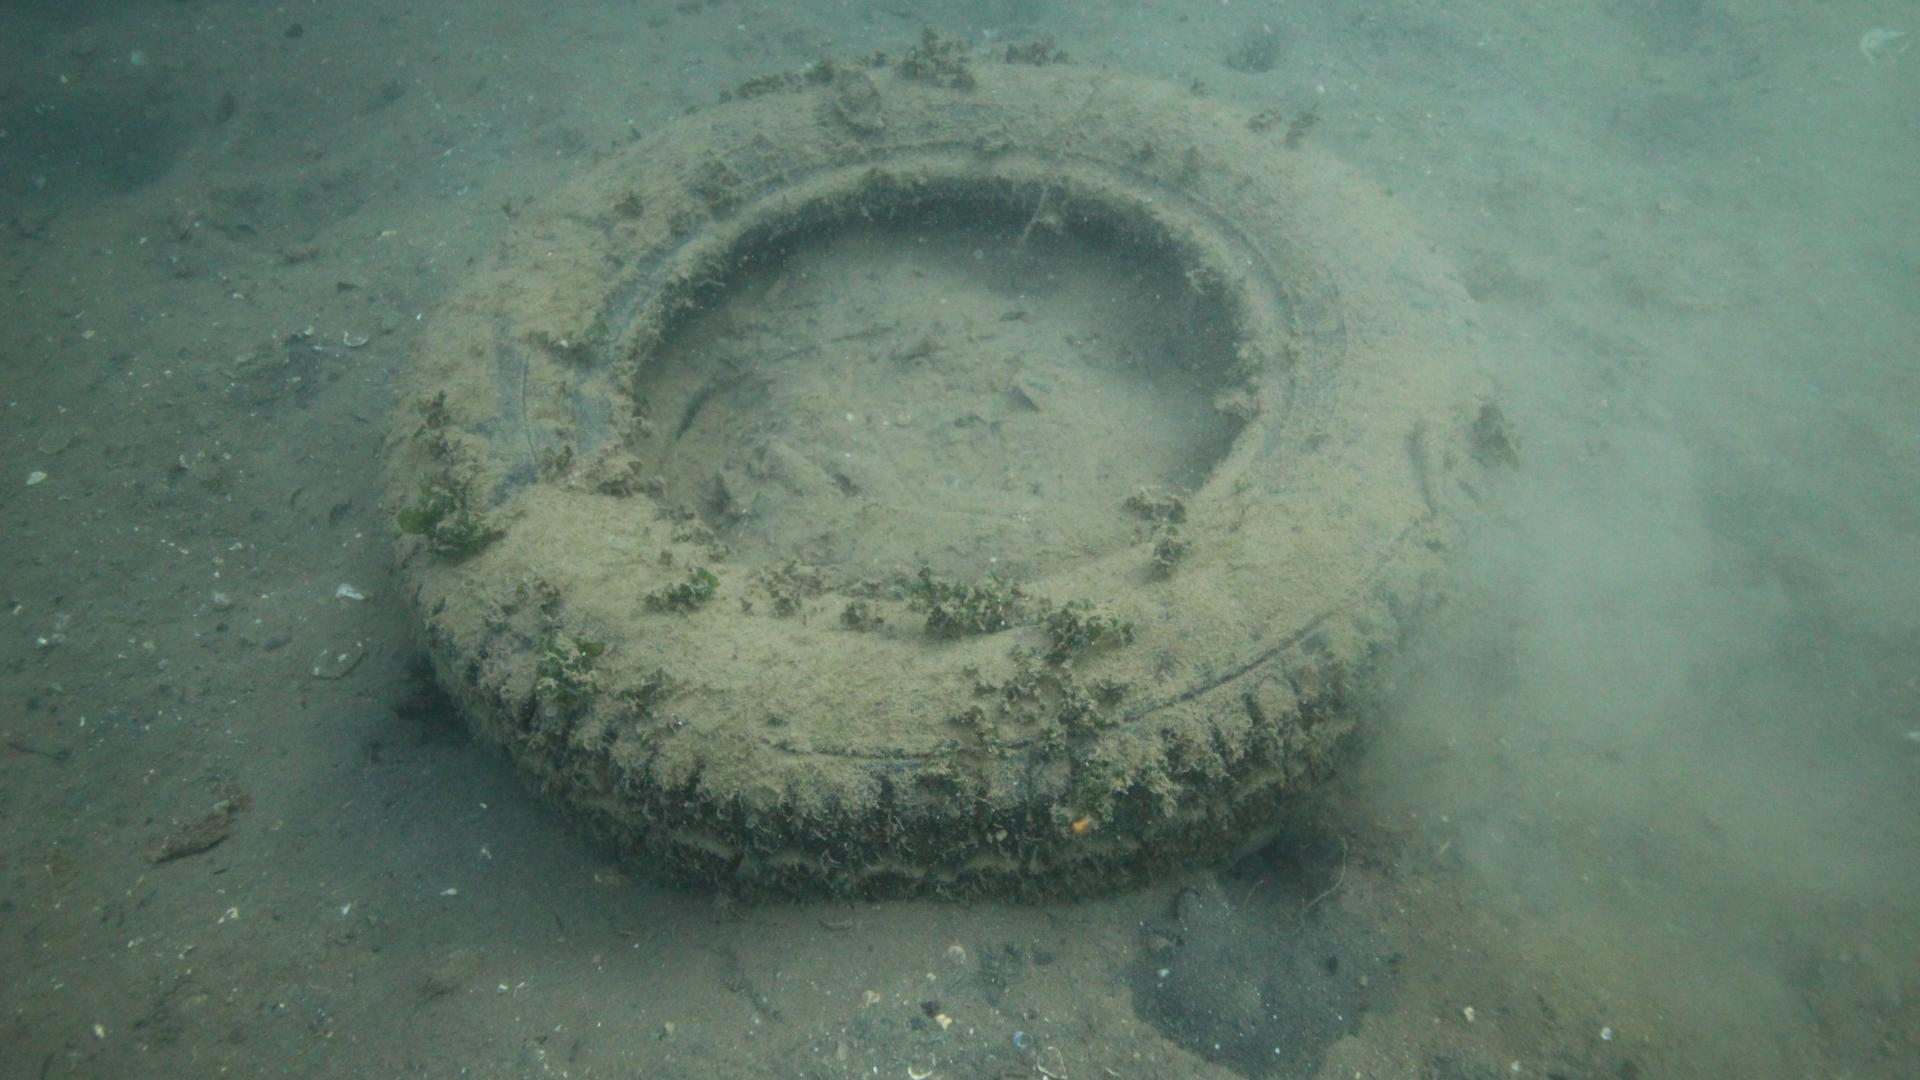tire: (378, 51, 1509, 903)
